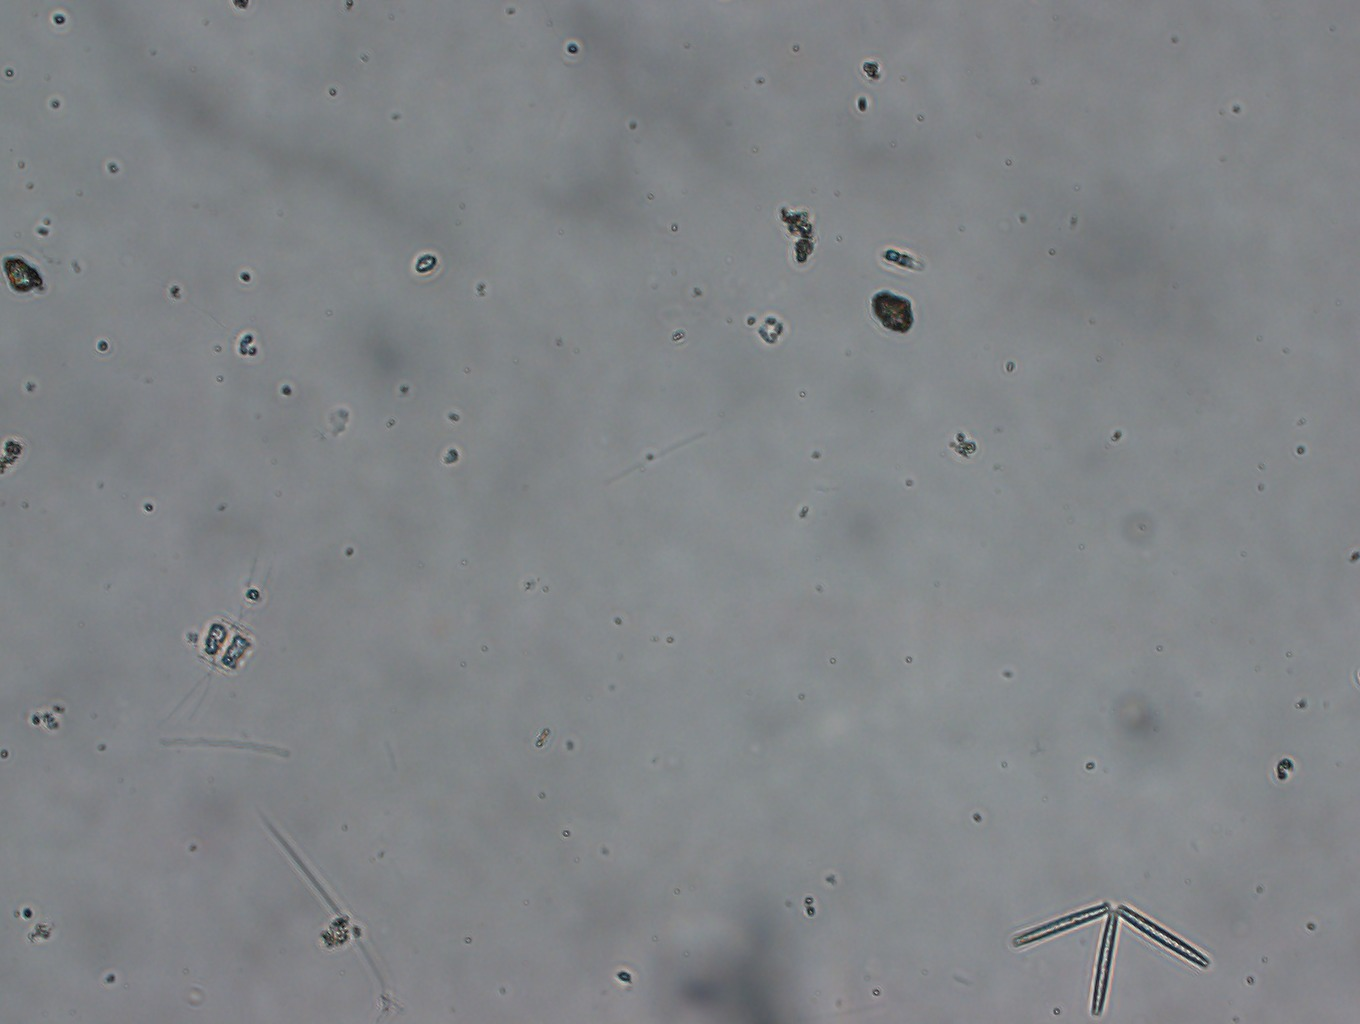thalassionema frauenfeldii: (1007, 895, 1213, 1019)
